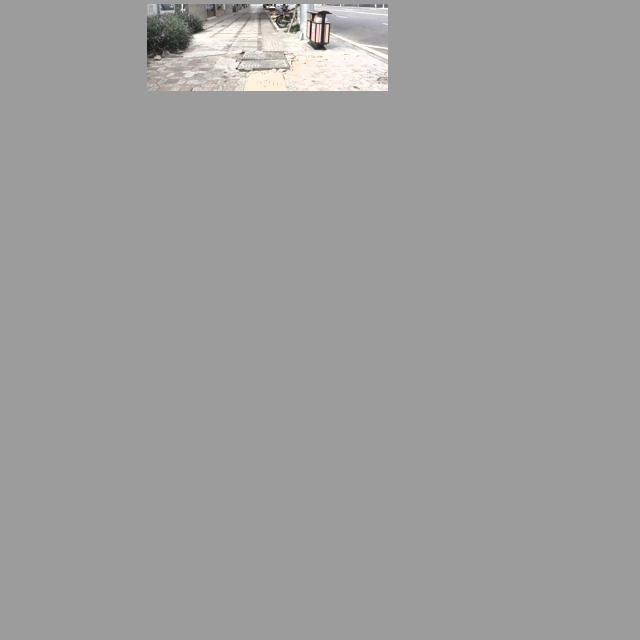circle: (226, 45, 305, 81)
